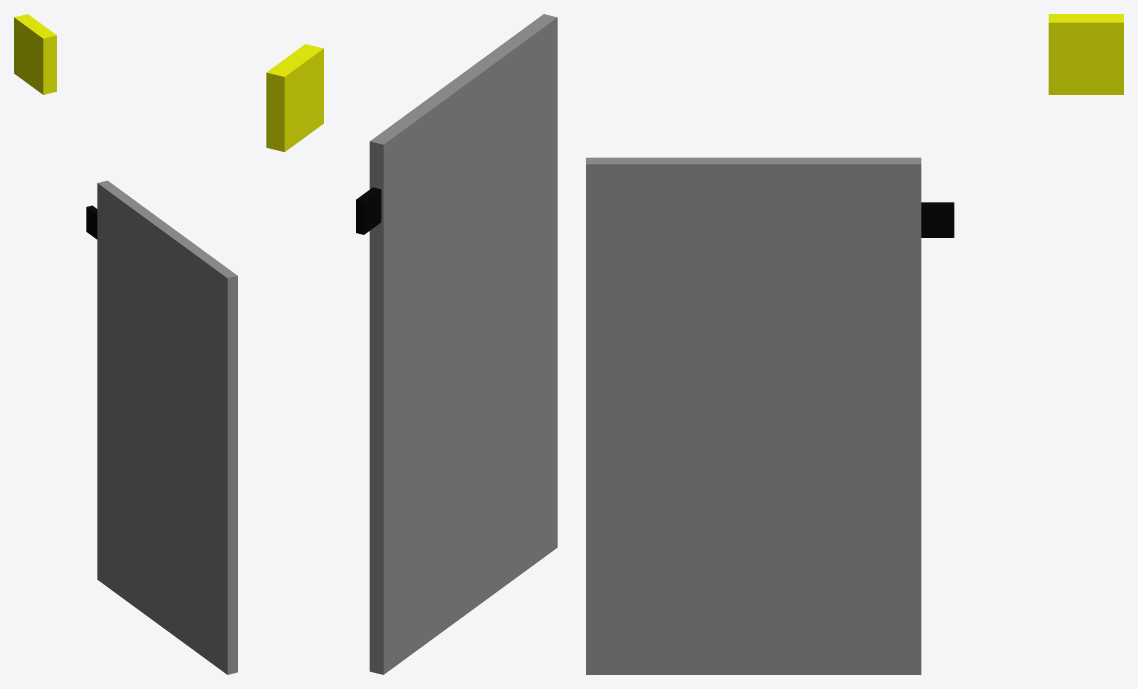
File: Left_Left_Door_2.fbx
3 renders of one model, left to right at view 1: azimuth 30°, elevation 25°; view 2: azimuth 150°, elevation 25°; view 3: azimuth 270°, elevation 25°, orthographic. The views are drawn at different scales.
Parts seen in each view (by area): view 1: polySurface1, pCube23, polySurface3; view 2: polySurface1, pCube23, polySurface3; view 3: polySurface1, pCube23, polySurface3.
Part boxes in pixels (left/top/right/bottom): polySurface1: left=97, top=180, right=237, bottom=674; pCube23: left=14, top=14, right=56, bottom=94; polySurface3: left=86, top=205, right=97, bottom=239; polySurface1: left=369, top=14, right=557, bottom=674; pCube23: left=266, top=44, right=323, bottom=152; polySurface3: left=356, top=187, right=381, bottom=234; polySurface1: left=586, top=157, right=921, bottom=674; pCube23: left=1048, top=14, right=1123, bottom=94; polySurface3: left=921, top=202, right=954, bottom=237.
Size of the model in its own units: 0.3486 by 11.24 by 8.41.
